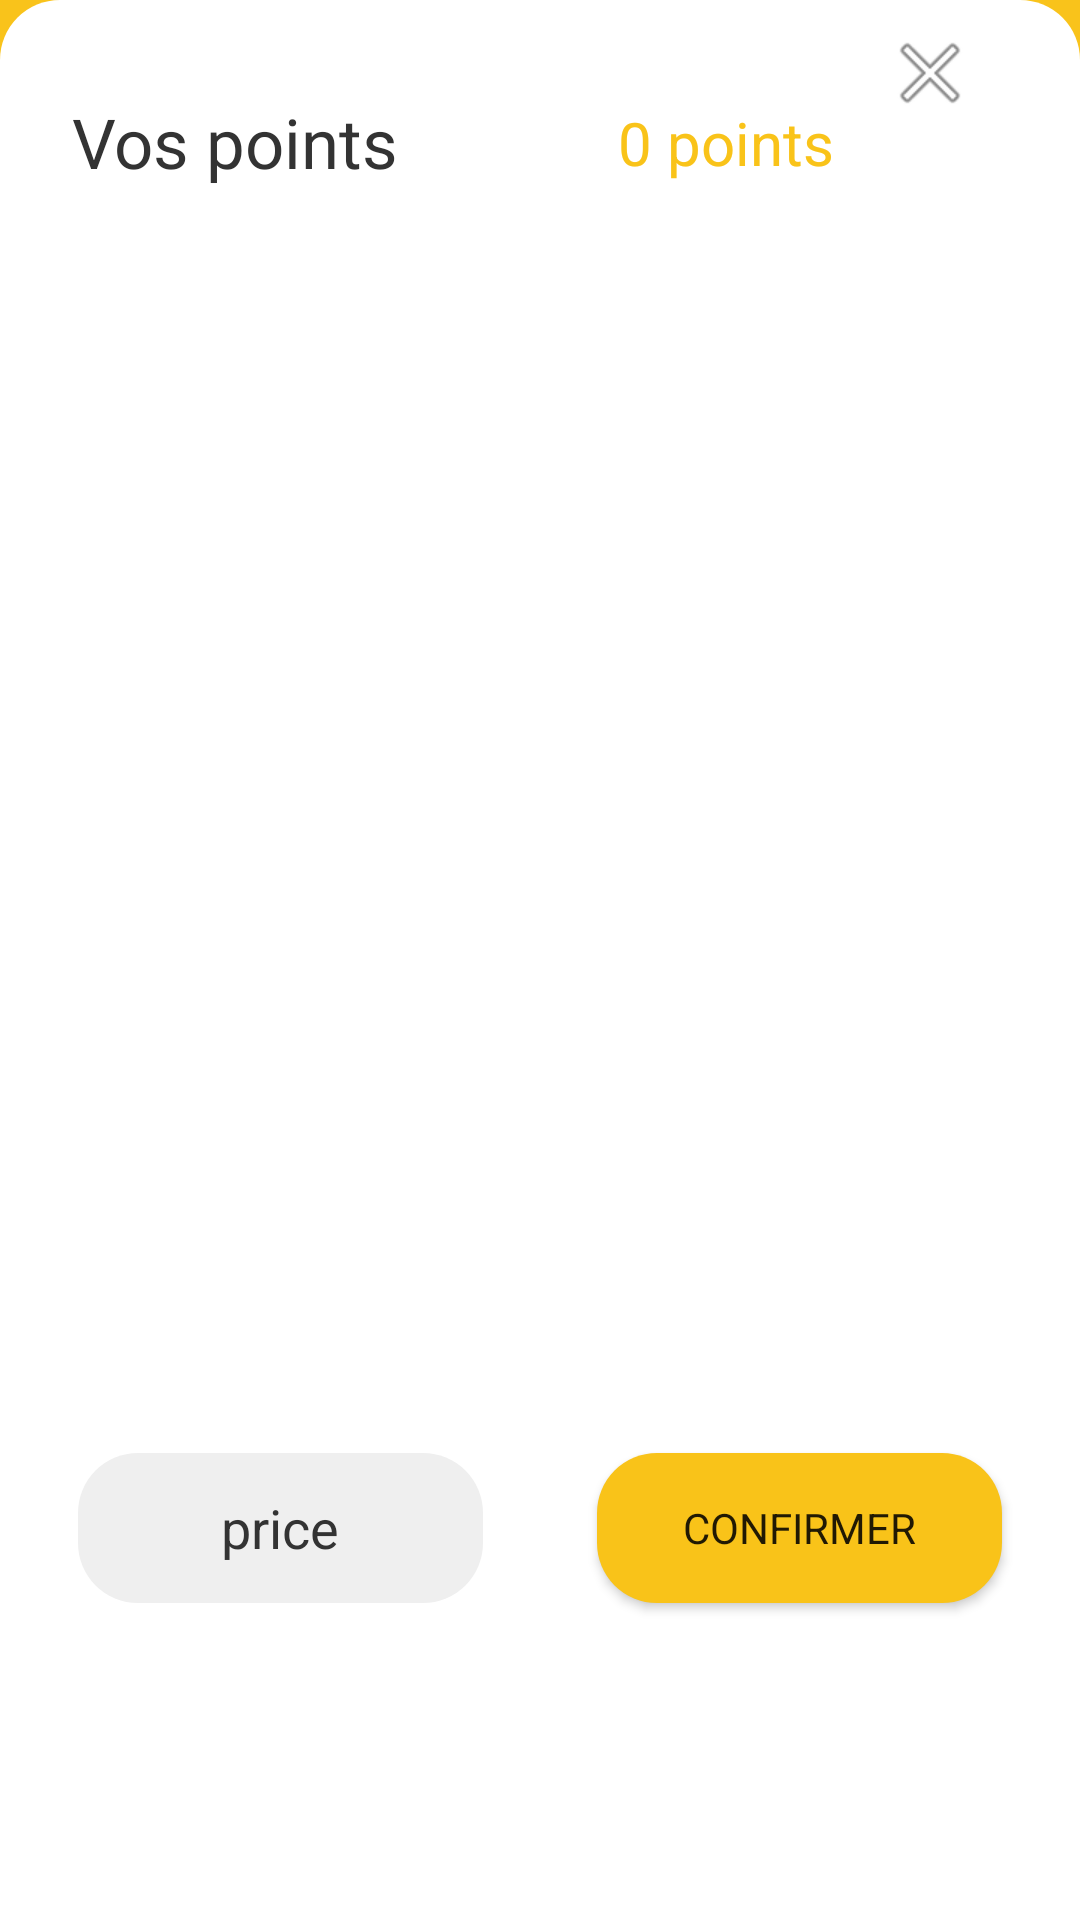

Point at icon controls on the screen. Image size 1080×1920, points as (x=x, y=y).
close clear cancel: (x=930, y=73)
